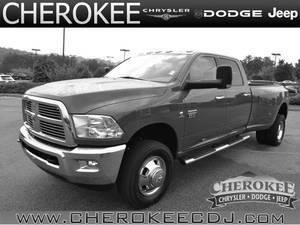car: (18, 51, 291, 209)
